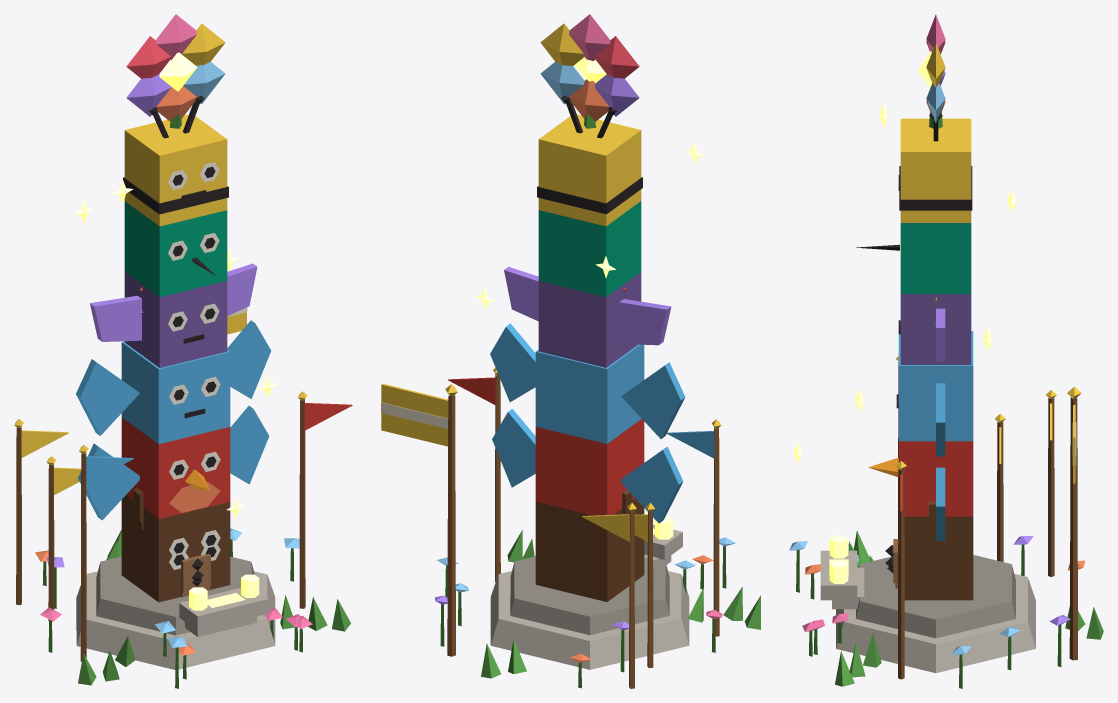
The model's file is meadow-totem.glb.
3 renders of one model, left to right at view 1: azimuth 30°, elevation 25°; view 2: azimuth 150°, elevation 25°; view 3: azimuth 270°, elevation 25°, orthographic.
Parts seen in each view (by area): view 1: lv3, lv2, lv1; view 2: lv3, lv2; view 3: lv3, lv2, lv1.
Boxes of the visible parts, x1,y1,x2,y2 form: lv3: (14,14,352,688); lv2: (46,287,327,681); lv1: (115,513,294,666); lv3: (381,14,760,688); lv2: (455,287,742,673); lv3: (789,14,1103,688); lv2: (805,297,1085,677); lv1: (832,531,935,667).
Bounding box in the file's own units: 1.48 × 2.93 × 1.36.
